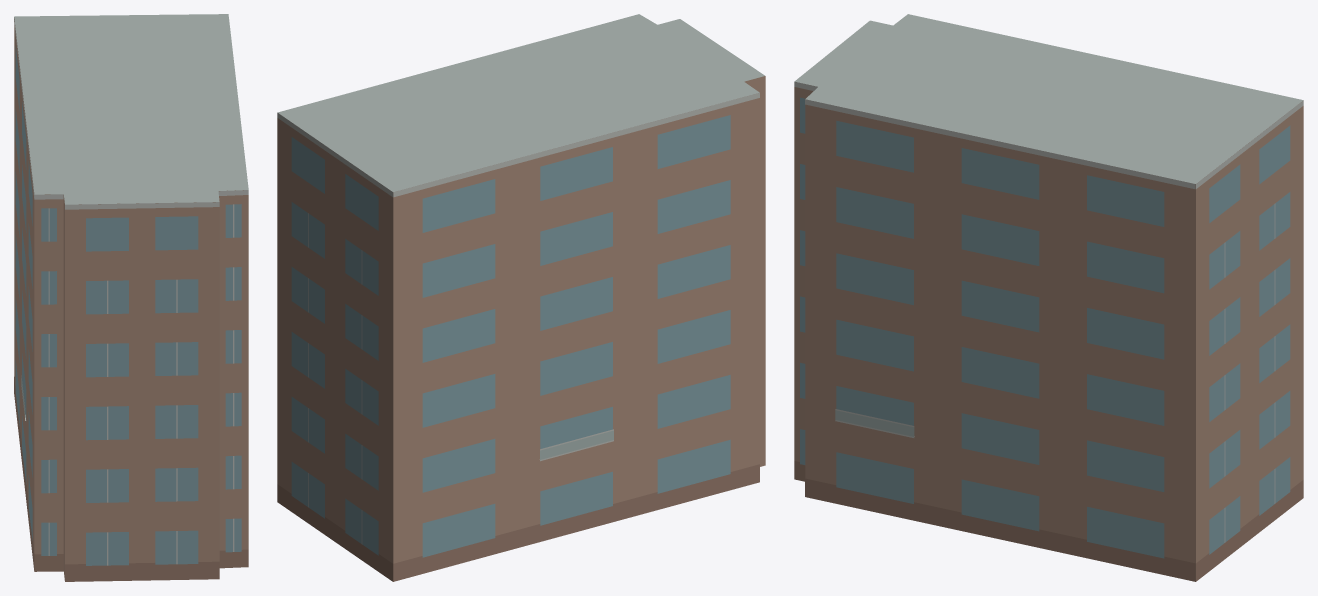
Rendered from survey-upis-33043171.glb.
3 renders of one model, left to right at view 1: azimuth 30°, elevation 25°; view 2: azimuth 150°, elevation 25°; view 3: azimuth 270°, elevation 25°, orthographic. The views are drawn at different scales.
Visible parts, largest first — view 1: survey-upis-33043171.tmp; view 2: survey-upis-33043171.tmp; view 3: survey-upis-33043171.tmp.
Part boxes in pixels (x1=…): survey-upis-33043171.tmp: x1=14, y1=14, x2=248, y2=581; survey-upis-33043171.tmp: x1=277, y1=14, x2=765, y2=581; survey-upis-33043171.tmp: x1=794, y1=14, x2=1303, y2=581.
Bounding box in the file's own units: 16.79 × 18.3 × 21.25.
